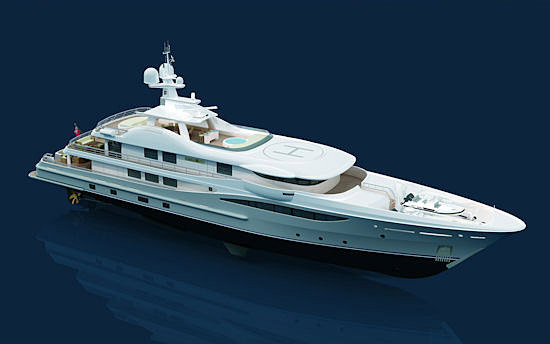yacht: (26, 38, 526, 274)
